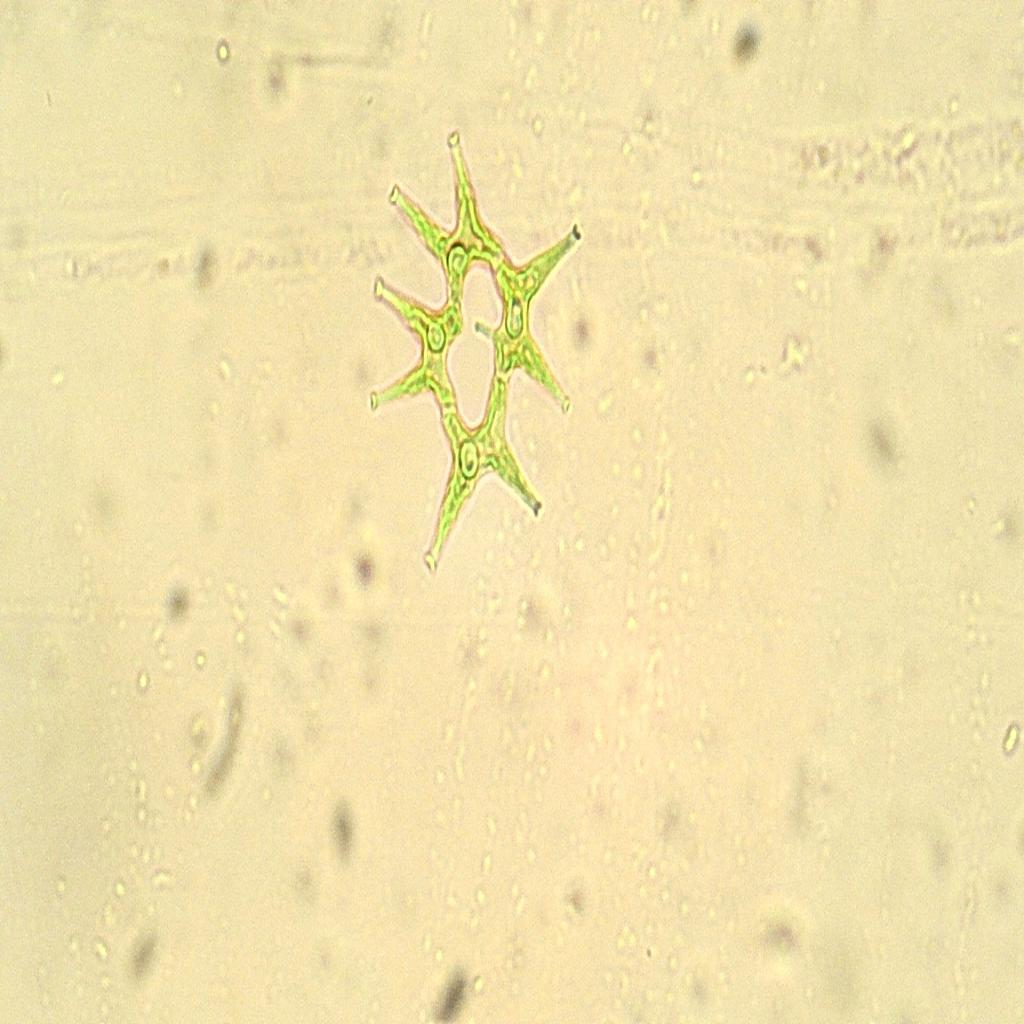Pediastrum_CF: (360, 119, 589, 585)
